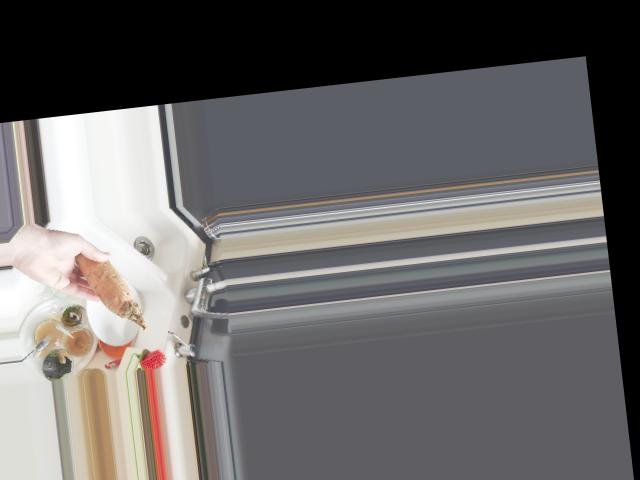sweet_potato: (69, 240, 147, 339)
